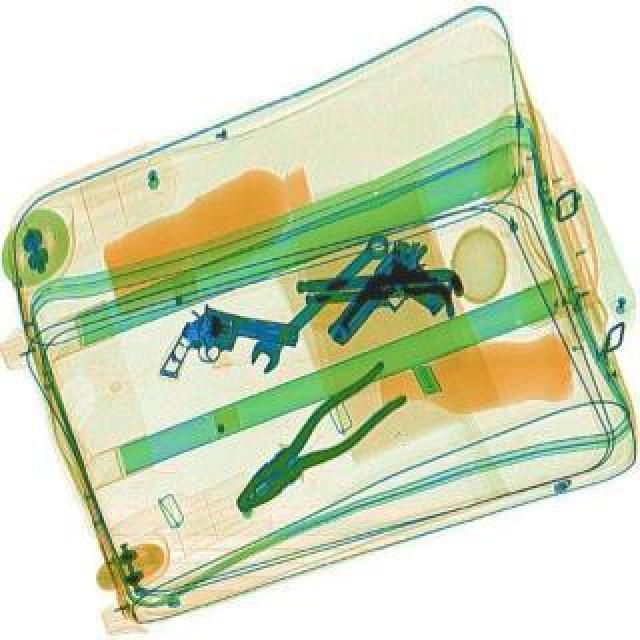gun: (312, 226, 472, 376), (158, 296, 302, 404)
scissors: (240, 224, 396, 378)
wrench: (216, 358, 414, 526)
